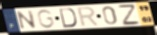0: (102, 5, 120, 26)
D: (59, 8, 79, 29)
G: (35, 9, 56, 29)
N: (17, 9, 38, 30)
R: (76, 6, 101, 28)
Z: (116, 4, 142, 26)
